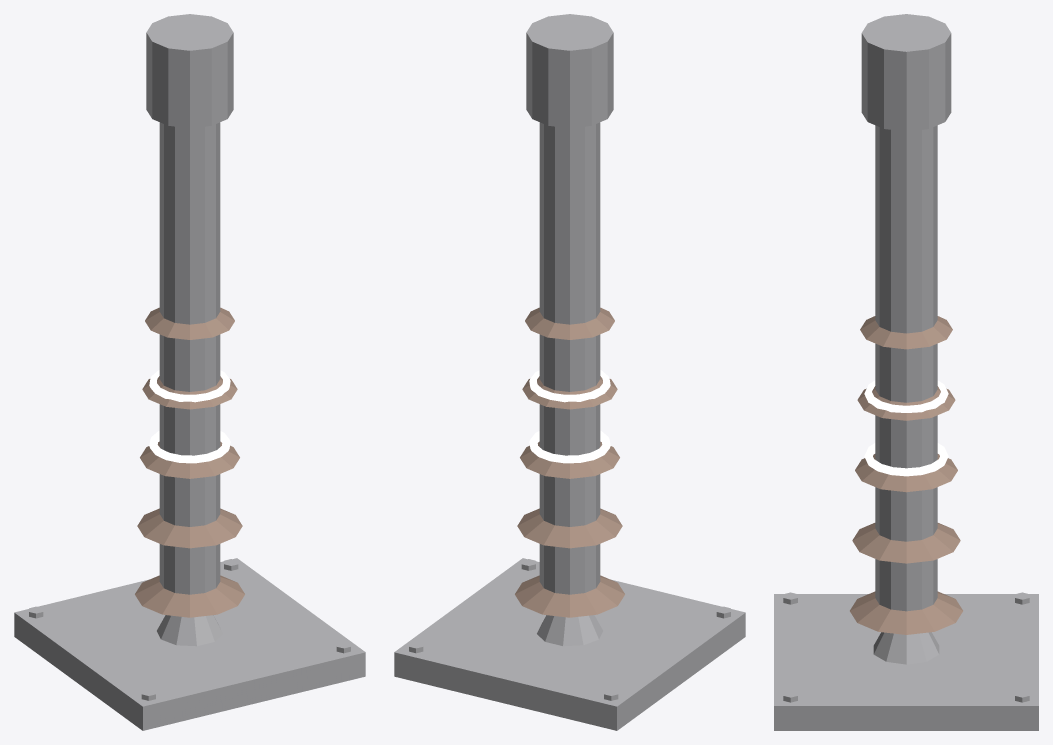
Rendered from drill_bit_rare.glb.
The picture shows the model from 3 angles, left to right: view 1: azimuth 30°, elevation 25°; view 2: azimuth 150°, elevation 25°; view 3: azimuth 270°, elevation 25°; orthographic projection. The views are drawn at different scales.
Parts seen in each view (by area): view 1: drill_bit; view 2: drill_bit; view 3: drill_bit.
Part boxes in pixels (x1,y1,x2,y2): drill_bit: [14, 14, 365, 730]; drill_bit: [394, 14, 745, 730]; drill_bit: [774, 14, 1038, 730].
Bounding box in the file's own units: 1.54 × 4.11 × 1.54.
